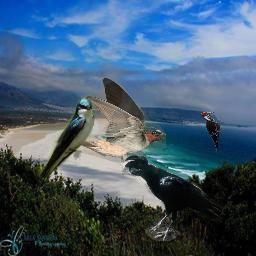Crow: (122, 154, 222, 241)
Swallow: (71, 77, 166, 163), (38, 97, 95, 184)
Woodpecker: (201, 111, 221, 154)
